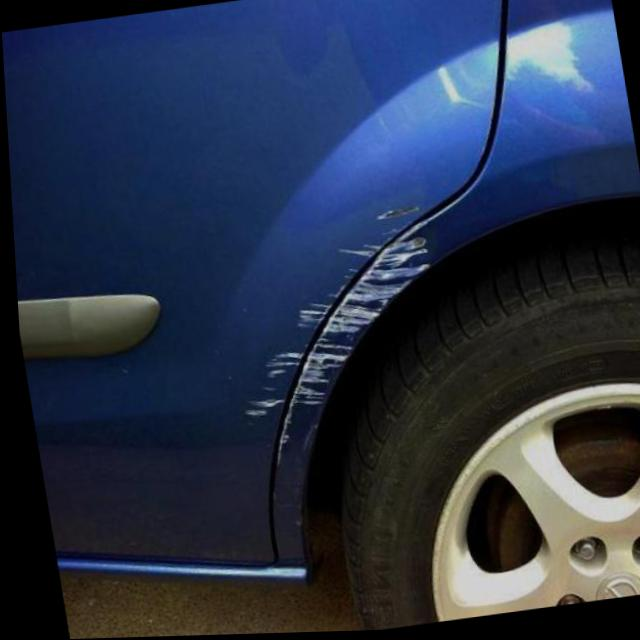Car-Damage: (209, 203, 455, 452)
